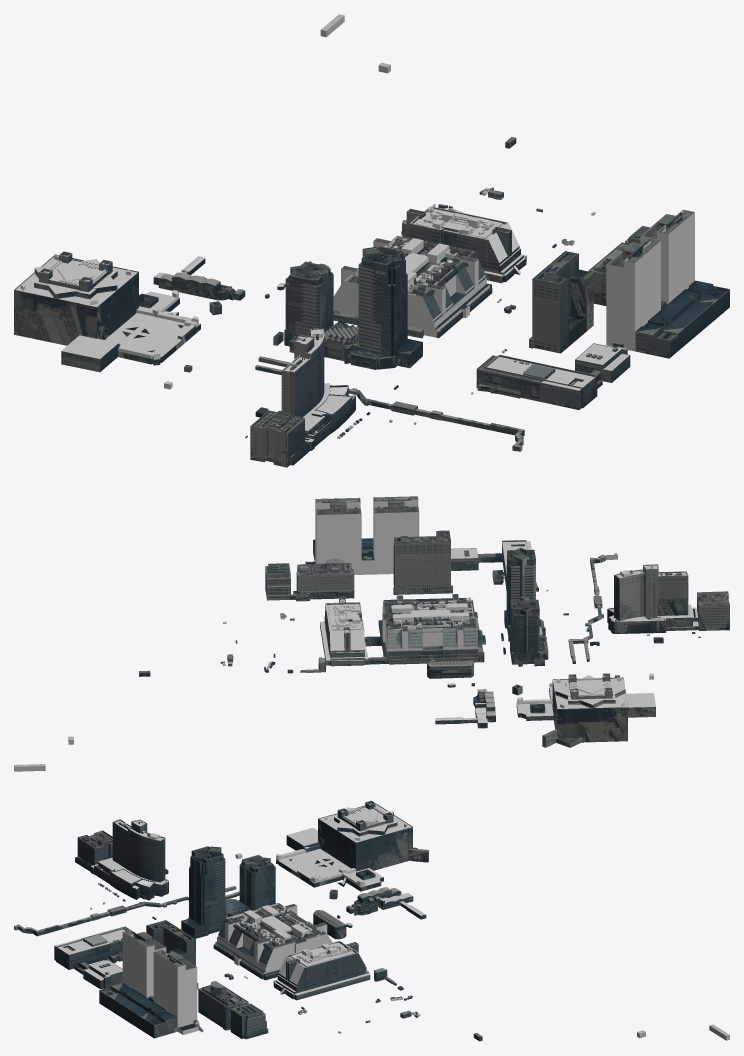
File: 53393653_bldg_6697_op.gltf
3 renders of one model, top to bottom at view 1: azimuth 30°, elevation 25°; view 2: azimuth 150°, elevation 25°; view 3: azimuth 270°, elevation 25°, orthographic. The views are drawn at different scales.
Visible parts, largest first — view 1: bldg_8794832f-3815-445c-85de-dcb96f5ca6ea, bldg_f51440fd-df24-46c1-945d-ded56cdb205d, bldg_7b6967b9-3e4f-486e-ae3b-226f888a4abc, bldg_a8336343-a4e6-4ec6-b06e-7af0049b4ef4, bldg_8cb7519e-c05a-4189-b5d7-9b4da542a6e0, bldg_4d5738e4-b71a-495d-b33f-835ac9b58a83, bldg_f7fb52b5-2f43-40c4-9b95-be017f01afd0, bldg_1efbb77a-e51b-4309-a53a-4b4275e305a2, bldg_5500b4a9-f14d-424f-8c84-883363980e33, bldg_20885130-6d3b-4a7b-bf82-bbe237870a85, bldg_32a7539e-11f0-49bd-89a8-e288c5c37759, bldg_be8dc11e-be55-41b2-8321-e81ae92a9678 (+3 smaller); view 2: bldg_8794832f-3815-445c-85de-dcb96f5ca6ea, bldg_7b6967b9-3e4f-486e-ae3b-226f888a4abc, bldg_f7fb52b5-2f43-40c4-9b95-be017f01afd0, bldg_a8336343-a4e6-4ec6-b06e-7af0049b4ef4, bldg_f51440fd-df24-46c1-945d-ded56cdb205d, bldg_8cb7519e-c05a-4189-b5d7-9b4da542a6e0, bldg_4d5738e4-b71a-495d-b33f-835ac9b58a83, bldg_ec2d0546-c21f-4241-b56d-66ce9f623504, bldg_6e6ff4b2-0975-4fb0-b075-feb6b4bc4d99, bldg_20885130-6d3b-4a7b-bf82-bbe237870a85, bldg_b09ba112-96fd-4636-a4b3-e2843a016e25, bldg_32a7539e-11f0-49bd-89a8-e288c5c37759 (+4 smaller); view 3: bldg_8794832f-3815-445c-85de-dcb96f5ca6ea, bldg_f51440fd-df24-46c1-945d-ded56cdb205d, bldg_a8336343-a4e6-4ec6-b06e-7af0049b4ef4, bldg_7b6967b9-3e4f-486e-ae3b-226f888a4abc, bldg_f7fb52b5-2f43-40c4-9b95-be017f01afd0, bldg_4d5738e4-b71a-495d-b33f-835ac9b58a83, bldg_1efbb77a-e51b-4309-a53a-4b4275e305a2, bldg_5500b4a9-f14d-424f-8c84-883363980e33, bldg_ec2d0546-c21f-4241-b56d-66ce9f623504, bldg_8cb7519e-c05a-4189-b5d7-9b4da542a6e0, bldg_32a7539e-11f0-49bd-89a8-e288c5c37759, bldg_b09ba112-96fd-4636-a4b3-e2843a016e25 (+5 smaller).
Boxes of the visible parts, bbox=[...] form: bldg_8794832f-3815-445c-85de-dcb96f5ca6ea: bbox=[14, 251, 200, 372]; bldg_f51440fd-df24-46c1-945d-ded56cdb205d: bbox=[284, 246, 422, 369]; bldg_7b6967b9-3e4f-486e-ae3b-226f888a4abc: bbox=[606, 209, 694, 351]; bldg_a8336343-a4e6-4ec6-b06e-7af0049b4ef4: bbox=[333, 235, 489, 337]; bldg_8cb7519e-c05a-4189-b5d7-9b4da542a6e0: bbox=[532, 251, 593, 353]; bldg_4d5738e4-b71a-495d-b33f-835ac9b58a83: bbox=[402, 204, 526, 283]; bldg_f7fb52b5-2f43-40c4-9b95-be017f01afd0: bbox=[281, 328, 355, 437]; bldg_1efbb77a-e51b-4309-a53a-4b4275e305a2: bbox=[635, 280, 729, 358]; bldg_5500b4a9-f14d-424f-8c84-883363980e33: bbox=[484, 354, 597, 409]; bldg_20885130-6d3b-4a7b-bf82-bbe237870a85: bbox=[250, 410, 304, 467]; bldg_32a7539e-11f0-49bd-89a8-e288c5c37759: bbox=[255, 356, 524, 451]; bldg_be8dc11e-be55-41b2-8321-e81ae92a9678: bbox=[476, 355, 543, 401]; bldg_8794832f-3815-445c-85de-dcb96f5ca6ea: bbox=[516, 673, 655, 742]; bldg_7b6967b9-3e4f-486e-ae3b-226f888a4abc: bbox=[305, 496, 419, 574]; bldg_f7fb52b5-2f43-40c4-9b95-be017f01afd0: bbox=[607, 564, 692, 633]; bldg_a8336343-a4e6-4ec6-b06e-7af0049b4ef4: bbox=[382, 594, 477, 655]; bldg_f51440fd-df24-46c1-945d-ded56cdb205d: bbox=[504, 547, 548, 664]; bldg_8cb7519e-c05a-4189-b5d7-9b4da542a6e0: bbox=[393, 530, 450, 587]; bldg_4d5738e4-b71a-495d-b33f-835ac9b58a83: bbox=[320, 596, 368, 666]; bldg_ec2d0546-c21f-4241-b56d-66ce9f623504: bbox=[296, 558, 354, 599]; bldg_6e6ff4b2-0975-4fb0-b075-feb6b4bc4d99: bbox=[364, 620, 484, 664]; bldg_20885130-6d3b-4a7b-bf82-bbe237870a85: bbox=[697, 591, 729, 630]; bldg_b09ba112-96fd-4636-a4b3-e2843a016e25: bbox=[265, 563, 295, 600]; bldg_32a7539e-11f0-49bd-89a8-e288c5c37759: bbox=[568, 553, 617, 663]; bldg_8794832f-3815-445c-85de-dcb96f5ca6ea: bbox=[276, 800, 412, 891]; bldg_f51440fd-df24-46c1-945d-ded56cdb205d: bbox=[181, 846, 275, 938]; bldg_a8336343-a4e6-4ec6-b06e-7af0049b4ef4: bbox=[215, 903, 332, 974]; bldg_7b6967b9-3e4f-486e-ae3b-226f888a4abc: bbox=[122, 930, 203, 1034]; bldg_f7fb52b5-2f43-40c4-9b95-be017f01afd0: bbox=[98, 819, 168, 900]; bldg_4d5738e4-b71a-495d-b33f-835ac9b58a83: bbox=[273, 941, 370, 1000]; bldg_1efbb77a-e51b-4309-a53a-4b4275e305a2: bbox=[99, 982, 177, 1038]; bldg_5500b4a9-f14d-424f-8c84-883363980e33: bbox=[54, 928, 127, 969]; bldg_ec2d0546-c21f-4241-b56d-66ce9f623504: bbox=[198, 981, 248, 1030]; bldg_8cb7519e-c05a-4189-b5d7-9b4da542a6e0: bbox=[146, 920, 195, 965]; bldg_32a7539e-11f0-49bd-89a8-e288c5c37759: bbox=[14, 886, 239, 936]; bldg_b09ba112-96fd-4636-a4b3-e2843a016e25: bbox=[230, 1003, 268, 1039].
Size of the model in its own units: 667 by 122 by 982.
